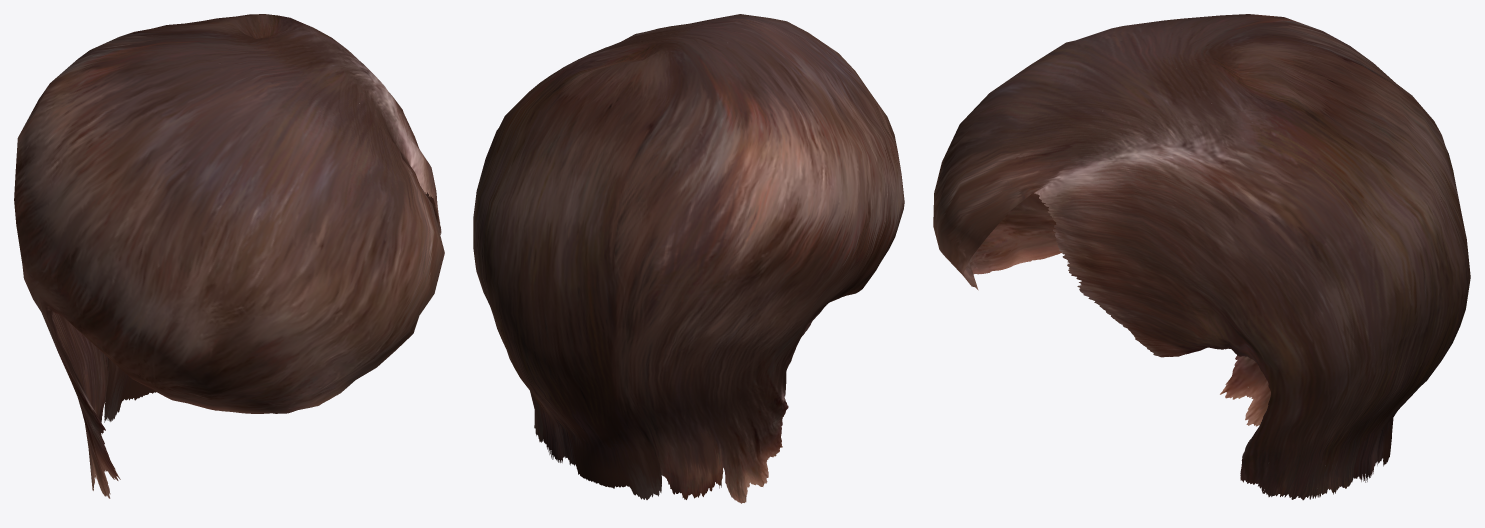
Rendered from mh_short03.glb.
3 renders of one model, left to right at view 1: azimuth 30°, elevation 25°; view 2: azimuth 150°, elevation 25°; view 3: azimuth 270°, elevation 25°, orthographic. The views are drawn at different scales.
Parts seen in each view (by area): view 1: mh_short03; view 2: mh_short03; view 3: mh_short03.
Part boxes in pixels (left/top/right/bottom): mh_short03: left=14, top=14, right=444, bottom=498; mh_short03: left=473, top=14, right=904, bottom=503; mh_short03: left=933, top=14, right=1470, bottom=500.
Size of the model in its own units: 0.1834 by 0.2246 by 0.2416.
1 material, 1 textured.
